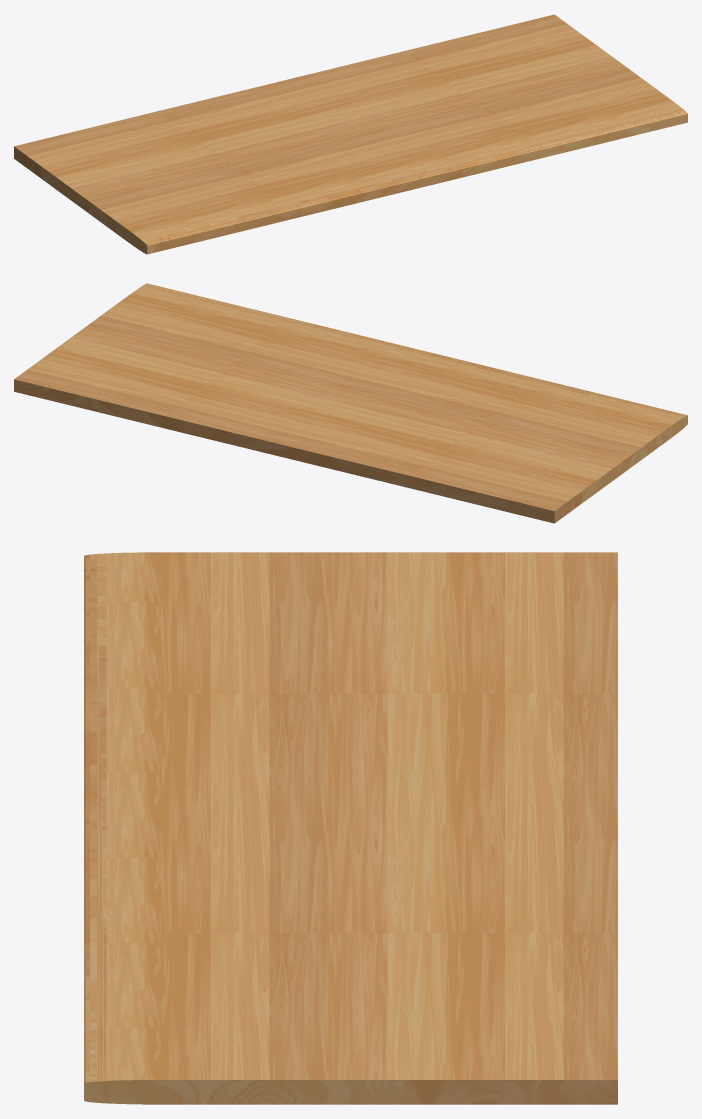
Rendered from podloga1 (1).fbx.
3 views of the same model, one above another, from view 1: azimuth 30°, elevation 25°; view 2: azimuth 150°, elevation 25°; view 3: azimuth 270°, elevation 25° (orthographic). The views are drawn at different scales.
Visible parts, largest first — view 1: podloga; view 2: podloga; view 3: podloga.
Part boxes in pixels (box(x1,y1,x2,y2)): podloga: box(14, 14, 687, 254); podloga: box(14, 283, 687, 523); podloga: box(84, 552, 617, 1104).
Bounding box in the file's own units: 1616 × 35.41 × 691.
